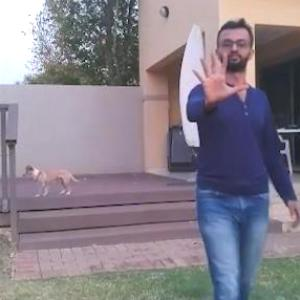follow_hand: (188, 48, 250, 109)
